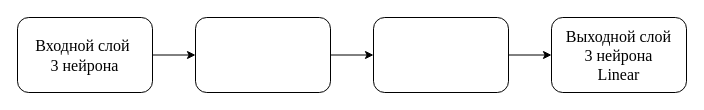
Image size: 704x110. Some labels were removed from this diagram. Each missing label, with the centre of its shape:
"Скрытый слой 1 16 нейронов ReLU" belongs at (262,54).
"Скрытый слой 2 8 нейронов ReLU" belongs at (440,54).
